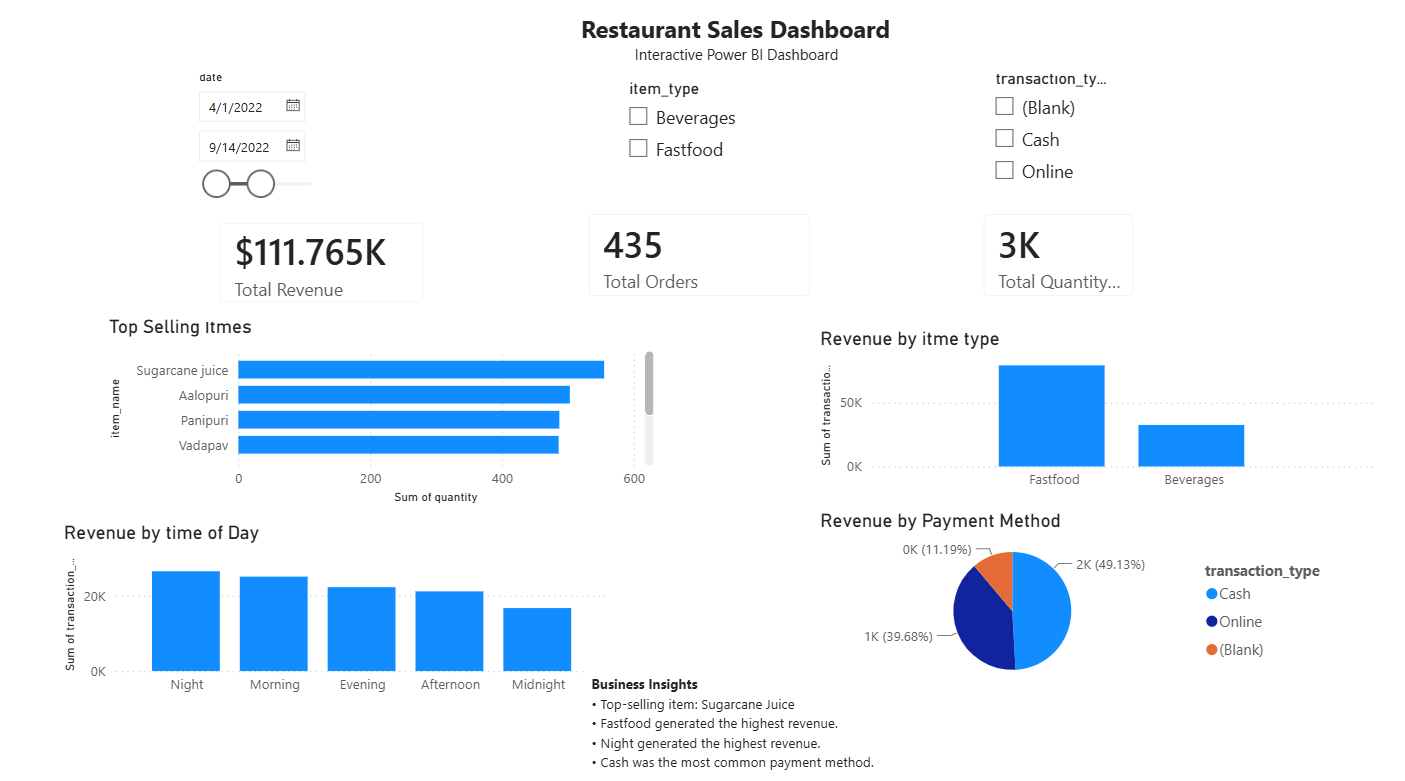

The dashboard page shown, as its layout file describes it:
{"tool":"powerbi","page":{"name":"Page 1","canvas":[1280,720],"ordinal":0},"visuals":[{"type":"clusteredBarChart","title":"Top Selling Itmes","fields":{"Category":["data FOR LINK.item_name"],"Y":["Sum(data FOR LINK.quantity)"]},"box":[101.5,289.8,501.4,174.9],"z":0},{"type":"clusteredColumnChart","title":"Revenue by itme type","fields":{"Category":["data FOR LINK.item_type"],"Y":["Sum(data FOR LINK.transaction_amount)"]},"box":[742.3,300.8,511.1,155.3],"z":1000},{"type":"clusteredColumnChart","title":"Revenue by time of Day","fields":{"Category":["data FOR LINK.time_of_sale"],"Y":["Sum(data FOR LINK.transaction_amount)"]},"box":[61.1,475.7,501.4,165.1],"z":2000},{"type":"pieChart","title":"Revenue by Payment Method","fields":{"Category":["data FOR LINK.transaction_type"],"Y":["data FOR LINK.Total Quantity Sold"]},"box":[742.3,464.7,475.7,165.1],"z":3000},{"type":"slicer","fields":{"Values":["data FOR LINK.date"]},"box":[174.9,63.6,137,130.8],"z":4000},{"type":"slicer","fields":{"Values":["data FOR LINK.item_type"]},"box":[562.5,72.1,134.5,127.2],"z":5000},{"type":"slicer","fields":{"Values":["data FOR LINK.transaction_type"]},"box":[892.7,63.6,140.6,117.4],"z":6000},{"type":"cardVisual","fields":{"Data":["data FOR LINK.Total Revenue"]},"box":[189.5,189.5,218.9,106.4],"z":7000},{"type":"cardVisual","fields":{"Data":["data FOR LINK.Total Orders"]},"box":[522.1,181,234.8,108.8],"z":8000},{"type":"cardVisual","fields":{"Data":["data FOR LINK.Total Quantity Sold"]},"box":[878,181,170,108.8],"z":9000},{"type":"textbox","box":[148,11,1052.9,61.1],"z":9001},{"type":"textbox","box":[536.8,607.7,308.2,112.5],"z":9002}]}

Visuals, with their boxes in screenshot pixels (x1, y1, x2, y2), scaled from the page's 1280x720 canvas onto the 1405x781 screenshot:
"Top Selling Itmes" clusteredBarChart: Rect(111, 314, 662, 504)
"Revenue by itme type" clusteredColumnChart: Rect(815, 326, 1376, 495)
"Revenue by time of Day" clusteredColumnChart: Rect(67, 516, 617, 695)
"Revenue by Payment Method" pieChart: Rect(815, 504, 1337, 683)
slicer - data FOR LINK.date: Rect(192, 69, 342, 211)
slicer - data FOR LINK.item_type: Rect(617, 78, 765, 216)
slicer - data FOR LINK.transaction_type: Rect(980, 69, 1134, 196)
cardVisual - data FOR LINK.Total Revenue: Rect(208, 206, 448, 321)
cardVisual - data FOR LINK.Total Orders: Rect(573, 196, 831, 314)
cardVisual - data FOR LINK.Total Quantity Sold: Rect(964, 196, 1150, 314)
textbox: Rect(162, 12, 1318, 78)
textbox: Rect(589, 659, 928, 780)
